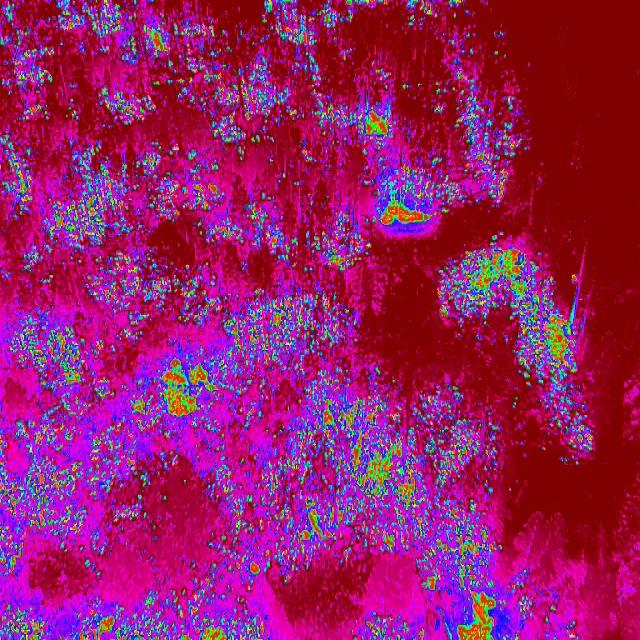fire: (0, 0, 367, 640), (367, 370, 519, 640), (367, 0, 534, 234), (438, 242, 587, 358), (520, 357, 604, 464), (519, 567, 583, 640)
